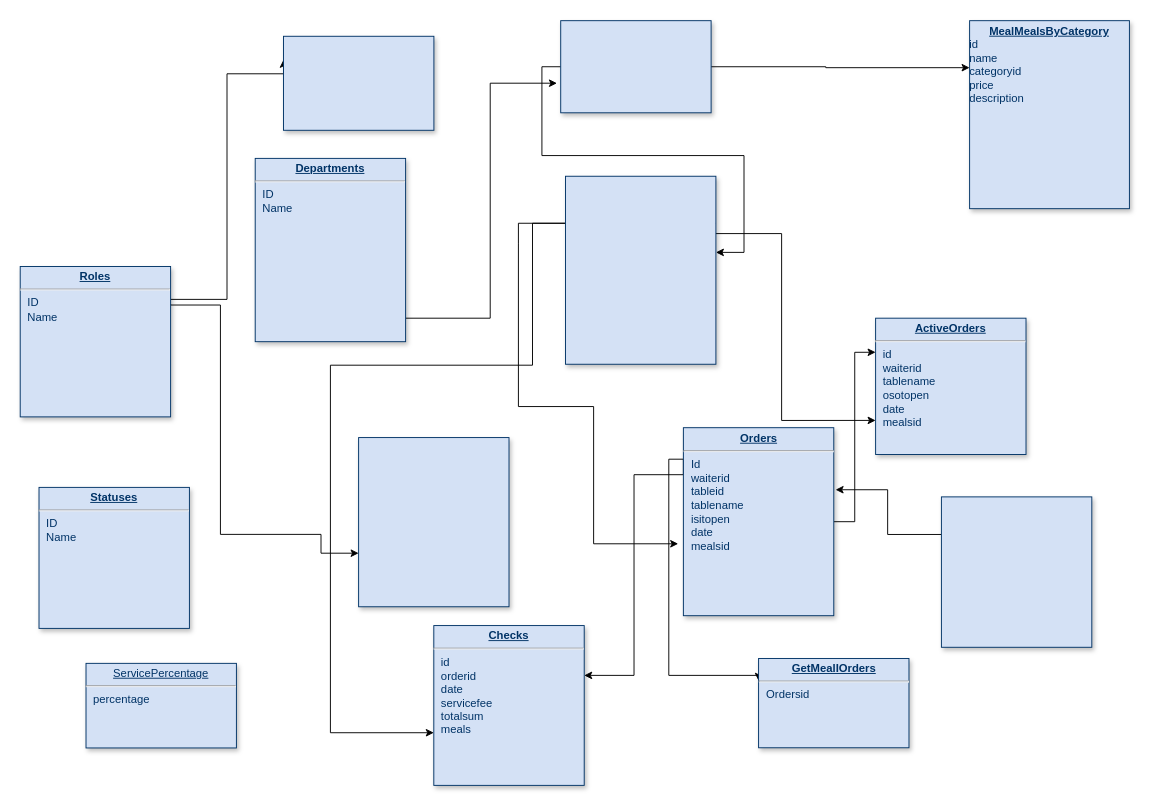
Some shapes in this 1152 by 808 pixel diagram are drawn without their labels. The shapes that lost their labels are listed below. From the top down, each one's centre as x and y in pixels, then its label:
[359,84]: GetUserTokens Roleid token
[636,67]: MealCategories ID name departmentid
[641,271]: Meals id name categoryid price description
[434,523]: User ID Name SurName login password email roleid dateofadd phone
[1017,573]: Tables ID Name
